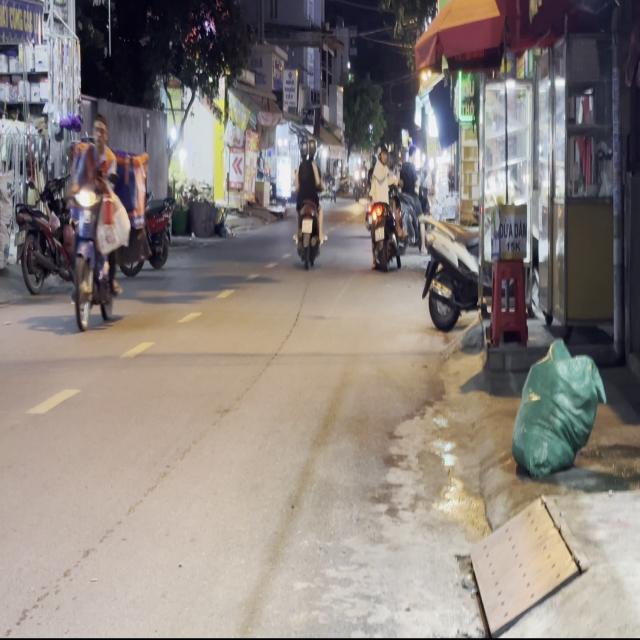licenseplate: (66, 110, 132, 330)
motorcyclist: (90, 114, 108, 147)
